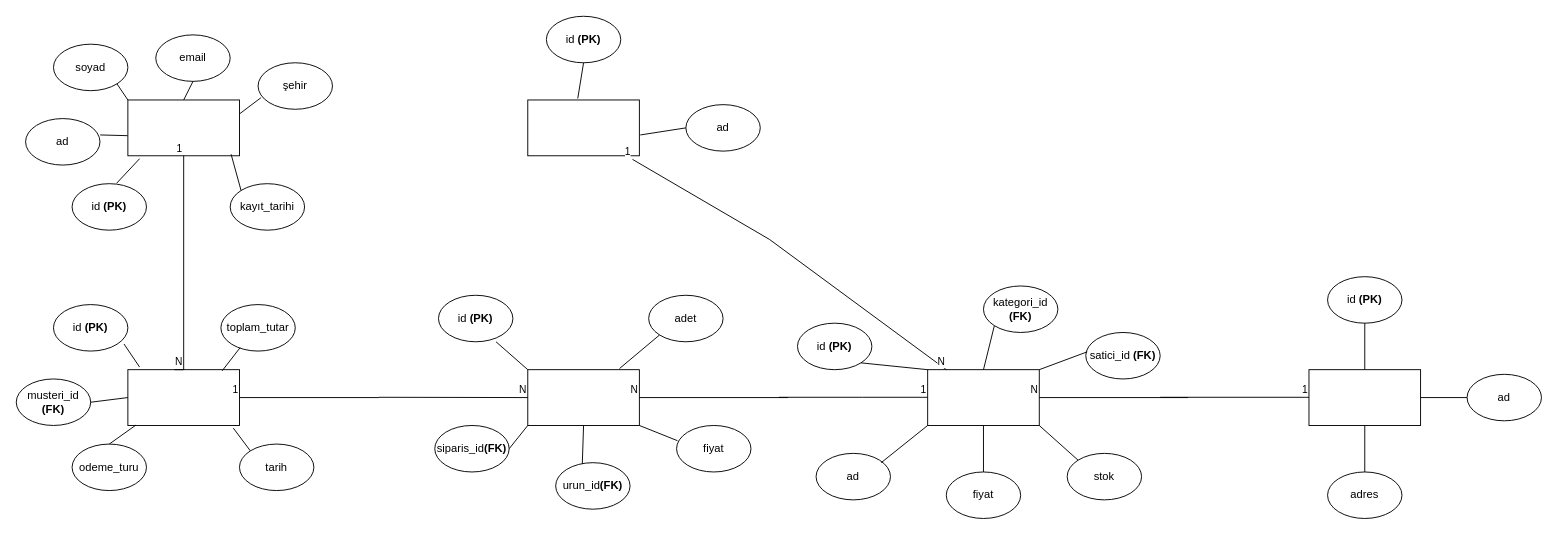
Image size: 1558x535. Some labels were removed from this diagram. Here are the shapes that lost their labels. From the top down, the centre of each, then its label:
(x=183, y=127): MÜŞTERİ
(x=583, y=127): KATEGORİ
(x=183, y=397): SİPARİŞ
(x=583, y=397): SİPARİŞ DETAY
(x=983, y=397): ÜRÜN
(x=1364, y=397): SATICI
